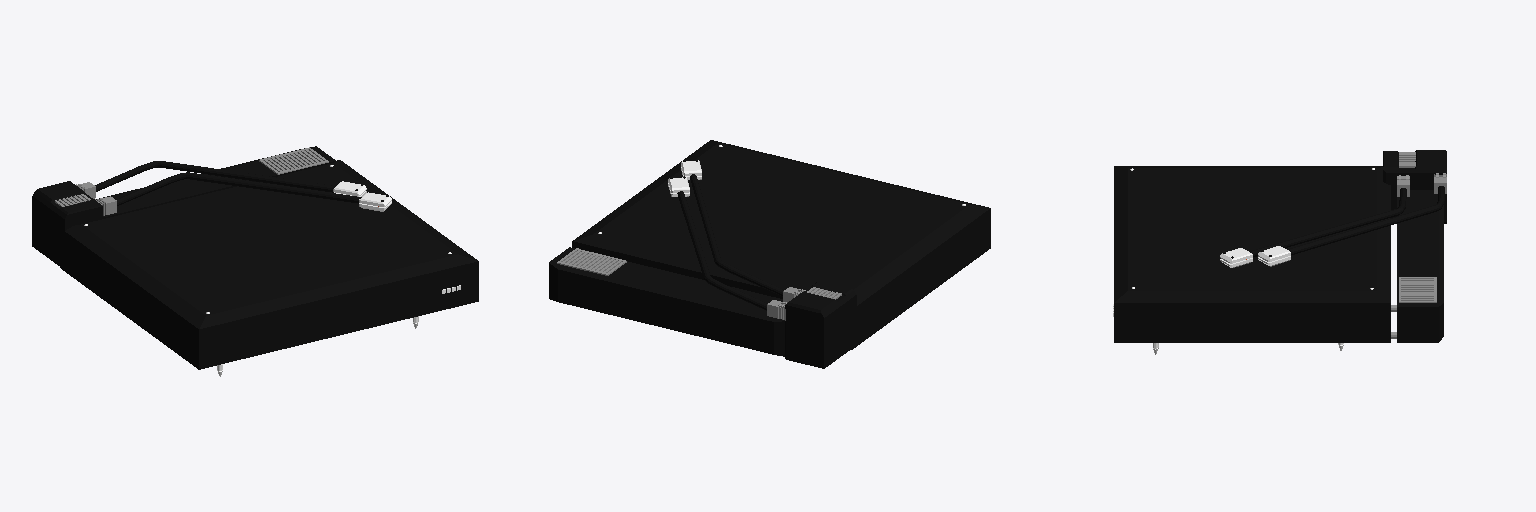
3 views of the same model, side by side, from view 1: azimuth 30°, elevation 25°; view 2: azimuth 150°, elevation 25°; view 3: azimuth 270°, elevation 25° (orthographic).
Parts seen in each view (by area): view 1: group[number redacted], group[number redacted], group[number redacted], group[number redacted], group[number redacted]; view 2: group[number redacted], group[number redacted], group[number redacted], group[number redacted], group[number redacted]; view 3: group[number redacted], group[number redacted], group[number redacted], group[number redacted], group[number redacted].
Part boxes in pixels (x1,y1,x2,y2): group[number redacted]: (60, 160, 478, 369); group[number redacted]: (32, 181, 102, 269); group[number redacted]: (116, 172, 391, 211); group[number redacted]: (94, 146, 335, 216); group[number redacted]: (95, 161, 366, 196); group[number redacted]: (572, 140, 990, 349); group[number redacted]: (549, 247, 784, 356); group[number redacted]: (785, 281, 856, 368); group[number redacted]: (681, 160, 783, 296); group[number redacted]: (668, 176, 766, 310); group[number redacted]: (1114, 166, 1390, 342); group[number redacted]: (1397, 190, 1443, 342); group[number redacted]: (1383, 150, 1446, 223); group[number redacted]: (1258, 186, 1444, 266); group[number redacted]: (1220, 188, 1406, 267).
Size of the model in its own units: 2.25 by 0.7916 by 2.33.